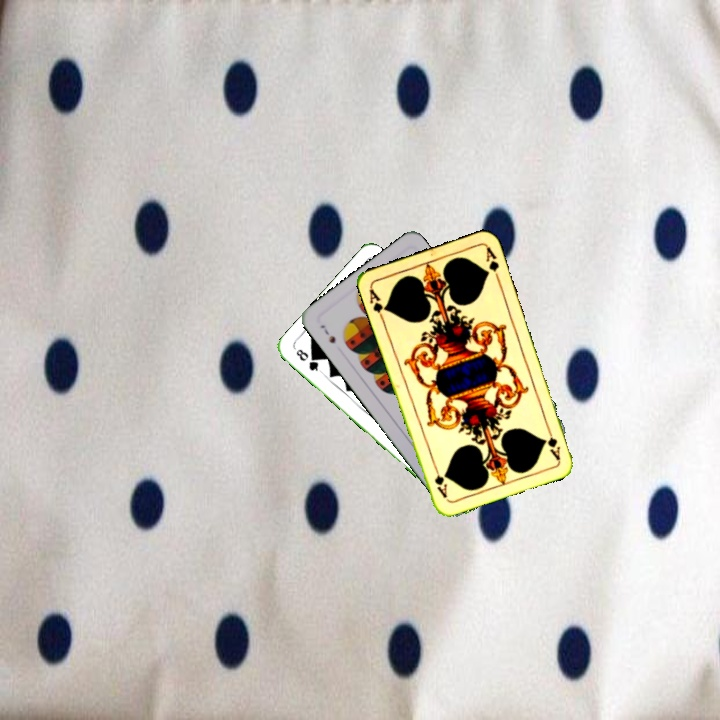G8: (292, 345, 324, 375)
GA: (365, 284, 390, 323), (541, 423, 563, 463)
S7: (316, 320, 338, 346)
